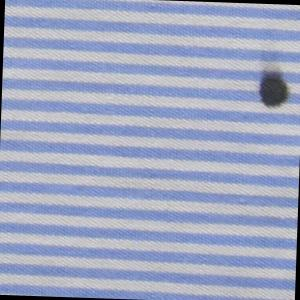Stain: (256, 52, 296, 117)
